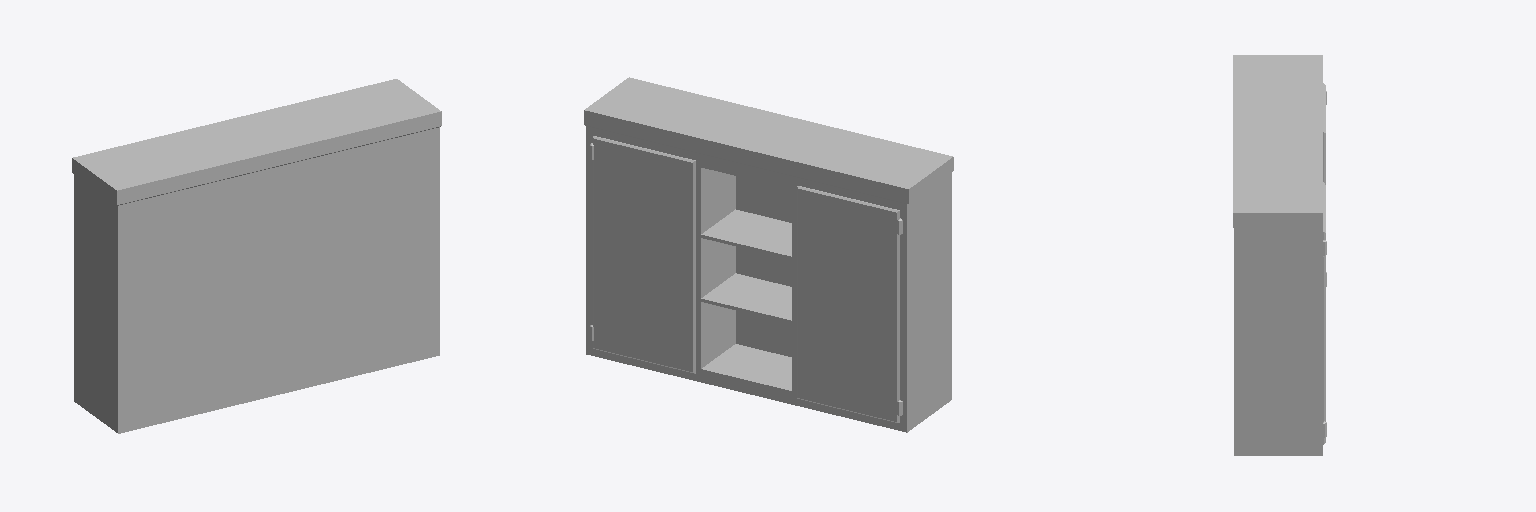
Rendered from closet.obj.
3 views of the same model, side by side, from view 1: azimuth 30°, elevation 25°; view 2: azimuth 150°, elevation 25°; view 3: azimuth 270°, elevation 25° (orthographic).
Parts seen in each view (by area): view 1: closet; view 2: closet; view 3: closet.
Part boxes in pixels (x1,y1,x2,y2): closet: (72,79,441,433); closet: (584,77,953,432); closet: (1233,55,1326,455).
Bounding box in the file's own units: 270 × 193 × 66.9.